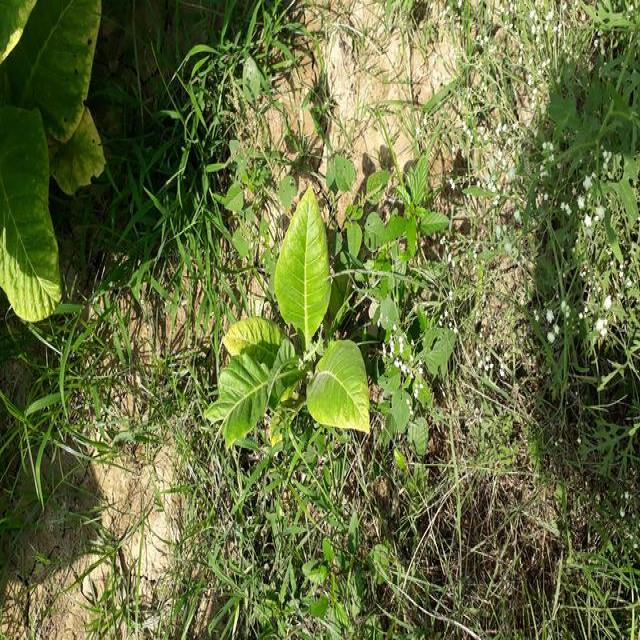crop: (206, 184, 376, 445)
